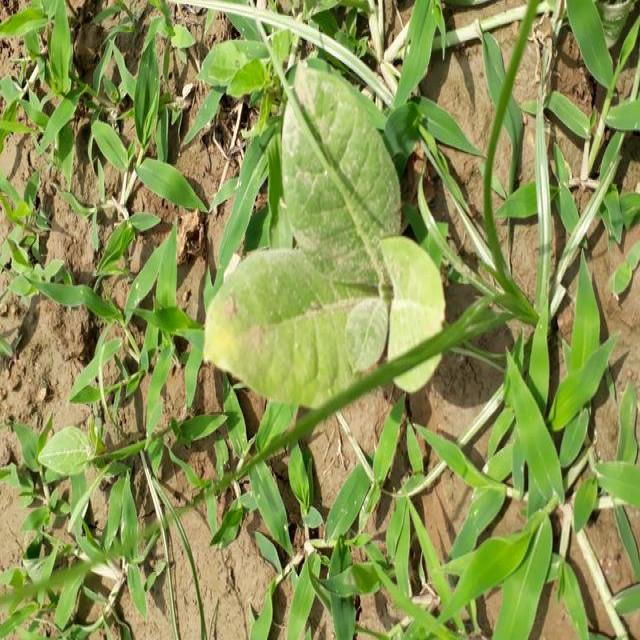crop: (193, 66, 449, 410)
